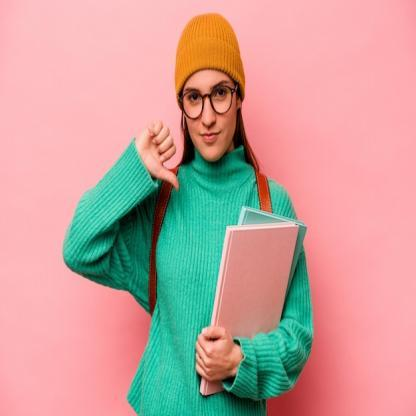thumb_down: (135, 116, 182, 192)
